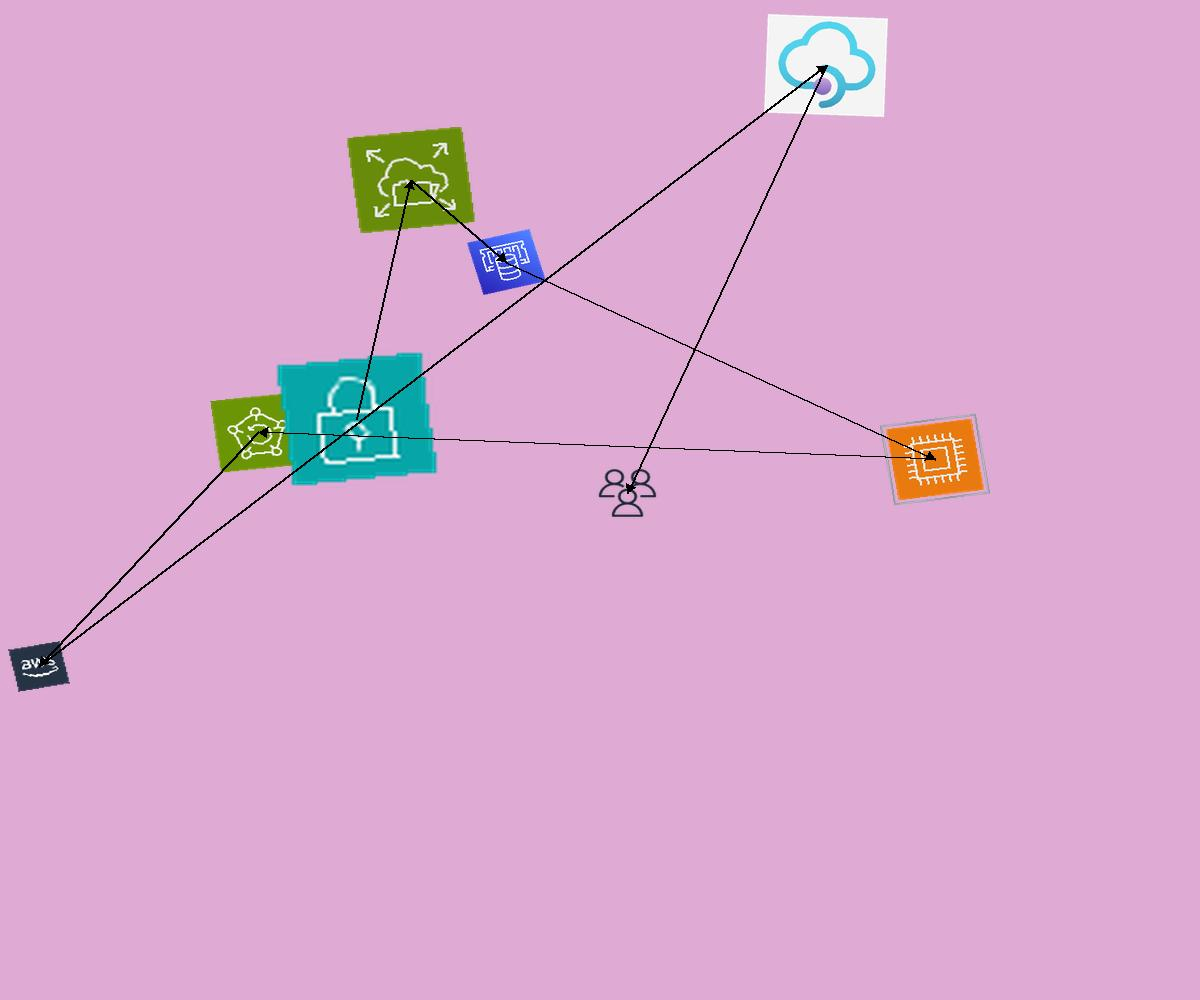AWS-Backup: (210, 392, 307, 473)
AWS-Category_Compute: (879, 413, 991, 506)
AWS-Cloud-logo: (8, 641, 70, 692)
AWS-EFS: (346, 126, 476, 234)
AWS-ElastiCache: (467, 229, 546, 295)
AWS-Private-subnet: (274, 350, 440, 488)
AWS-Res_Users: (595, 466, 660, 520)
Azure_api_gateway: (764, 14, 888, 117)
